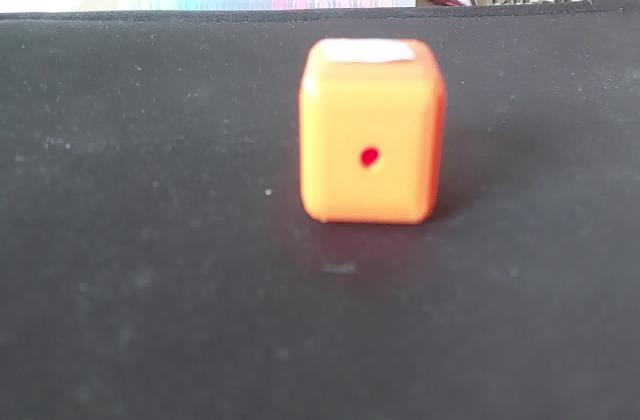cube: (293, 32, 448, 232)
white: (322, 35, 422, 69)
